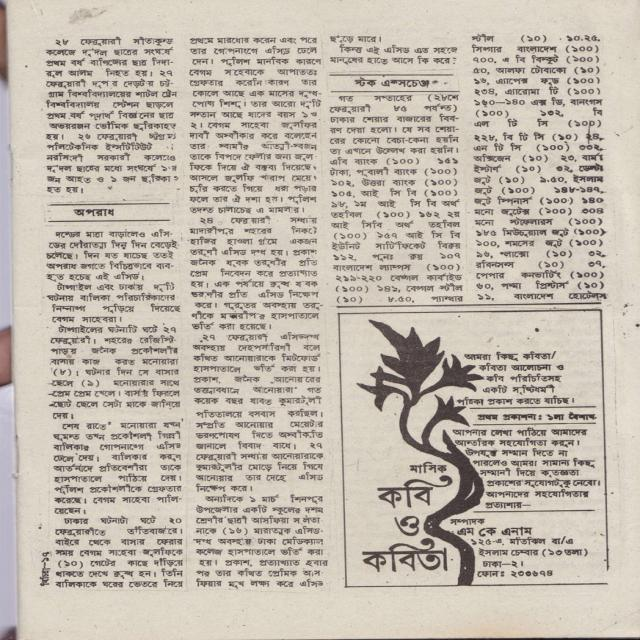advertisement: (339, 307, 607, 586)
page number: (41, 551, 51, 565)
paragraph: (469, 31, 607, 302), (329, 91, 466, 305), (187, 35, 324, 215), (189, 330, 326, 493), (46, 35, 179, 196), (187, 214, 325, 332), (192, 493, 331, 590), (48, 323, 183, 420), (52, 419, 184, 515), (53, 514, 187, 590), (43, 228, 179, 282), (43, 281, 182, 324), (328, 43, 459, 66), (330, 35, 381, 43)
text: (39, 568, 51, 586)
title: (354, 78, 432, 88), (74, 209, 113, 216)
